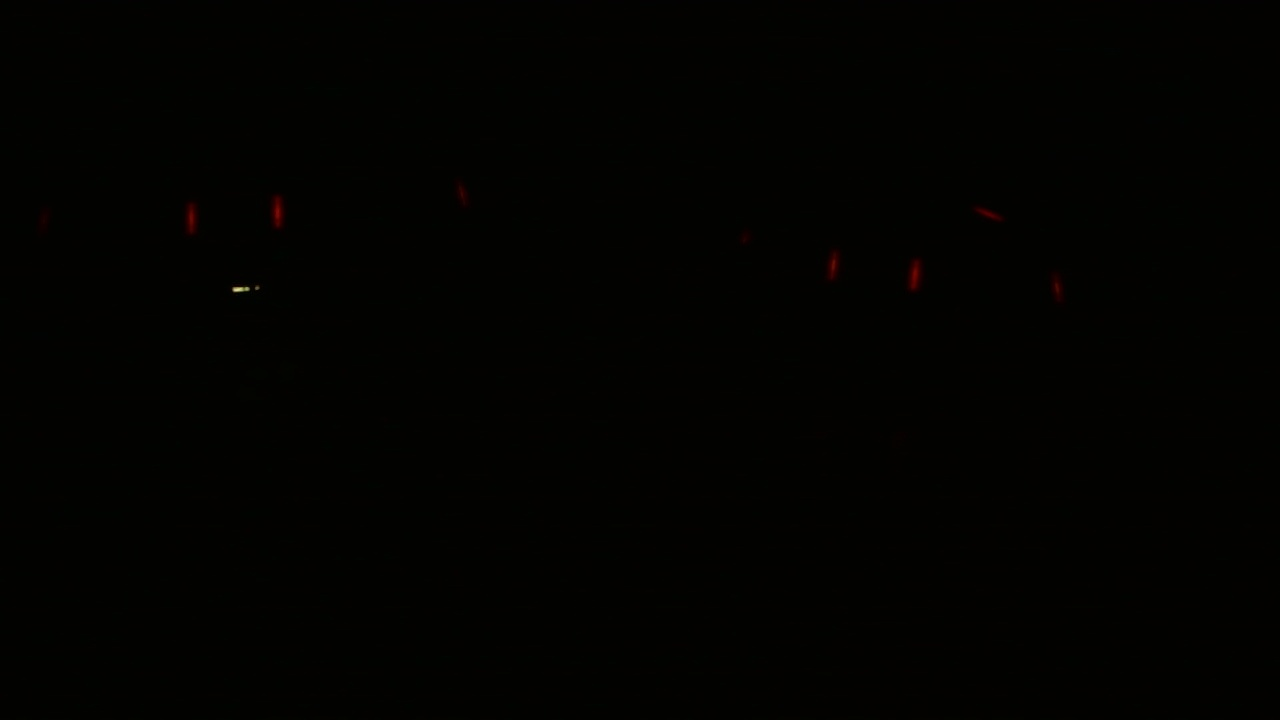pair1: (824, 247, 926, 291), (179, 194, 284, 229)
